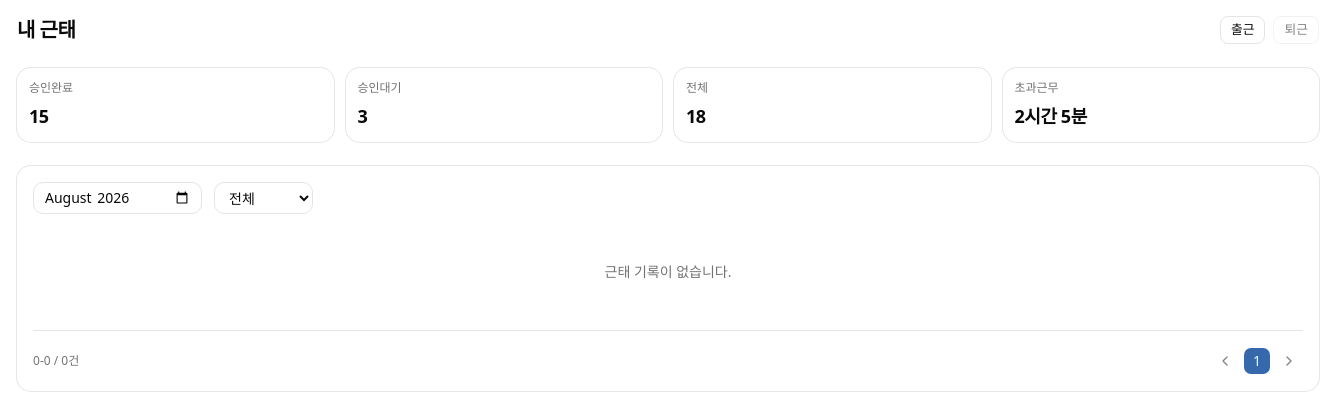
MyAttendancePage (F301) - 출근 버튼 클릭 › "출근" 버튼 클릭 시 POST /api/employees/attendances/me/check-in 요청이 발생하고, 성공 후 목록이 재조회된다
Click the button "출근" at (1243, 30), box 1220,16 -> 1265,44
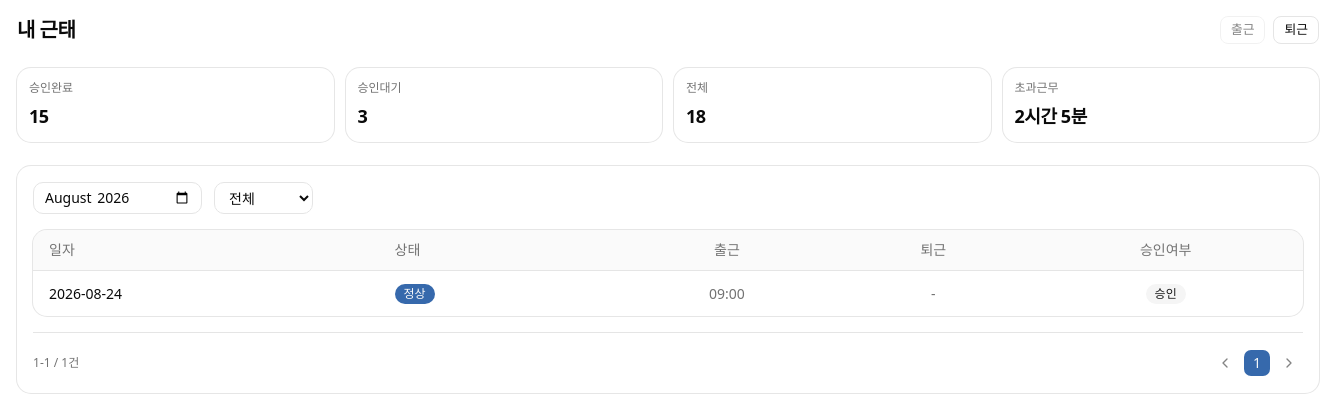
Result: the button "퇴근" is enabled at 1274,16 -> 1319,44
